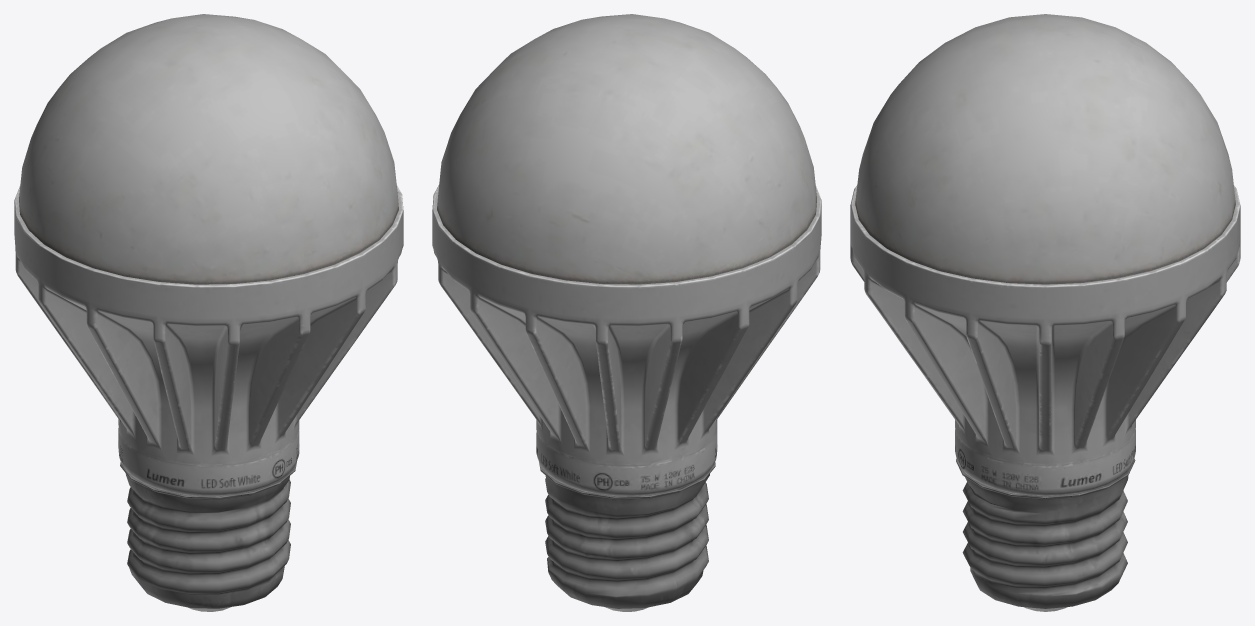
The model's file is lightbulb.glb.
3 renders of one model, left to right at view 1: azimuth 30°, elevation 25°; view 2: azimuth 150°, elevation 25°; view 3: azimuth 270°, elevation 25°, orthographic.
Parts seen in each view (by area): view 1: lightbulb_led; view 2: lightbulb_led; view 3: lightbulb_led.
Part boxes in pixels (x1,y1,x2,y2): lightbulb_led: (14, 14, 403, 611); lightbulb_led: (432, 14, 821, 611); lightbulb_led: (850, 14, 1240, 611).
Bounding box in the file's own units: 0.0615 × 0.1003 × 0.0615.
Materials: 1 (1 with a texture image).
